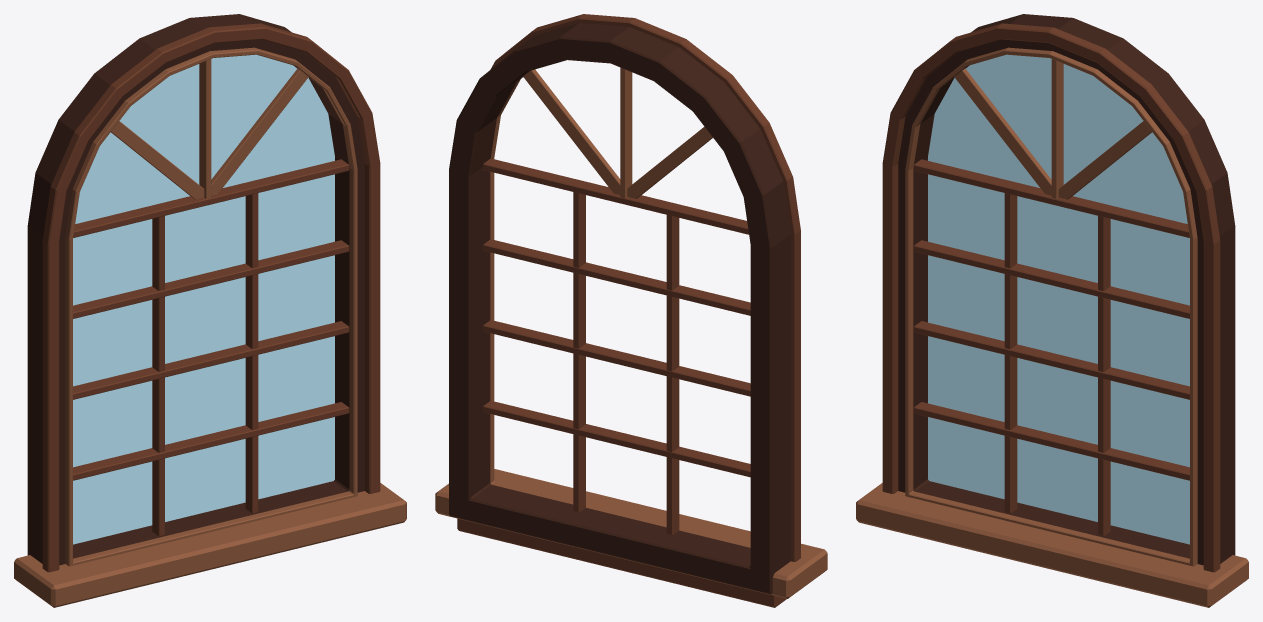
The model's file is window_03.glb.
3 renders of one model, left to right at view 1: azimuth 30°, elevation 25°; view 2: azimuth 150°, elevation 25°; view 3: azimuth 330°, elevation 25°, orthographic.
Parts seen in each view (by area): view 1: Glass, Deep_frame, Raised_moulding, Sill, Inner_bead, Mullion_2, Mullion_1, Transom_2, Transom_3, Transom_1, Transom_4, Fan_ray_1 (+2 smaller); view 2: Deep_frame, Raised_moulding, Sill, Mullion_1, Sill_apron, Mullion_2, Transom_1, Transom_2, Transom_3, Transom_4, Inner_bead, Fan_ray_1 (+2 smaller); view 3: Glass, Deep_frame, Raised_moulding, Sill, Inner_bead, Mullion_1, Mullion_2, Transom_2, Transom_3, Transom_1, Transom_4, Fan_ray_3 (+2 smaller).
Part boxes in pixels (bbox=[...]): Glass: bbox=[73, 54, 334, 544]; Deep_frame: bbox=[27, 14, 364, 565]; Raised_moulding: bbox=[42, 23, 380, 572]; Sill: bbox=[14, 483, 406, 607]; Inner_bead: bbox=[65, 47, 357, 566]; Mullion_2: bbox=[245, 193, 258, 513]; Mullion_1: bbox=[152, 216, 164, 536]; Transom_2: bbox=[73, 321, 349, 399]; Transom_3: bbox=[73, 240, 349, 318]; Transom_1: bbox=[73, 402, 349, 480]; Transom_4: bbox=[73, 159, 349, 237]; Fan_ray_1: bbox=[203, 68, 308, 196]; Deep_frame: bbox=[449, 23, 790, 594]; Raised_moulding: bbox=[490, 14, 800, 561]; Sill: bbox=[435, 469, 827, 598]; Mullion_1: bbox=[666, 214, 679, 535]; Sill_apron: bbox=[457, 518, 786, 607]; Mullion_2: bbox=[573, 192, 585, 512]; Transom_1: bbox=[483, 400, 750, 477]; Transom_2: bbox=[483, 320, 750, 396]; Transom_3: bbox=[483, 239, 750, 315]; Transom_4: bbox=[483, 158, 748, 234]; Inner_bead: bbox=[490, 77, 750, 547]; Fan_ray_1: bbox=[523, 69, 620, 194]; Glass: bbox=[928, 54, 1189, 544]; Deep_frame: bbox=[898, 14, 1235, 565]; Raised_moulding: bbox=[882, 23, 1220, 572]; Sill: bbox=[856, 483, 1248, 607]; Inner_bead: bbox=[905, 47, 1197, 566]; Mullion_1: bbox=[1004, 193, 1017, 513]; Mullion_2: bbox=[1098, 216, 1110, 536]; Transom_2: bbox=[913, 321, 1189, 399]; Transom_3: bbox=[913, 240, 1189, 318]; Transom_1: bbox=[913, 402, 1189, 480]; Transom_4: bbox=[913, 159, 1189, 237]; Fan_ray_3: bbox=[954, 68, 1051, 195].
Size of the model in its own units: 1.98 by 2.87 by 0.405.
